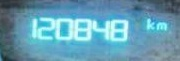0: (55, 17, 72, 41)
1: (27, 16, 36, 38)
2: (37, 14, 53, 39)
4: (92, 17, 110, 40)
8: (110, 18, 128, 42), (74, 17, 91, 40)
X: (155, 19, 167, 30), (145, 17, 154, 30)
